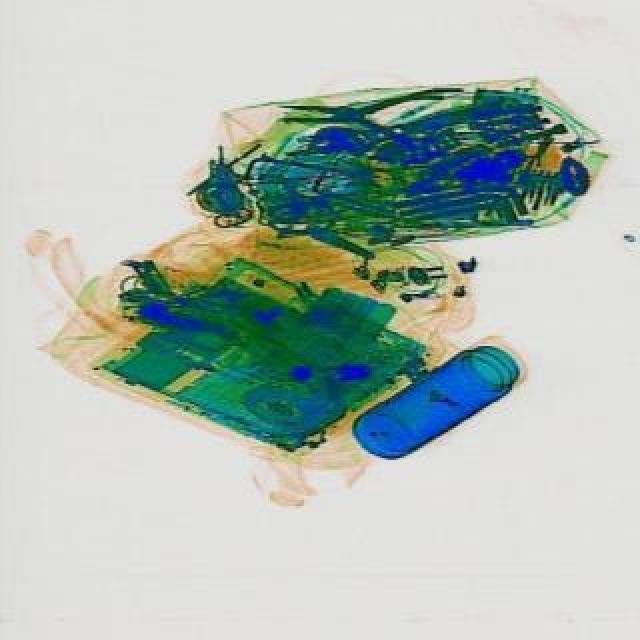wrench: (272, 92, 440, 150)
